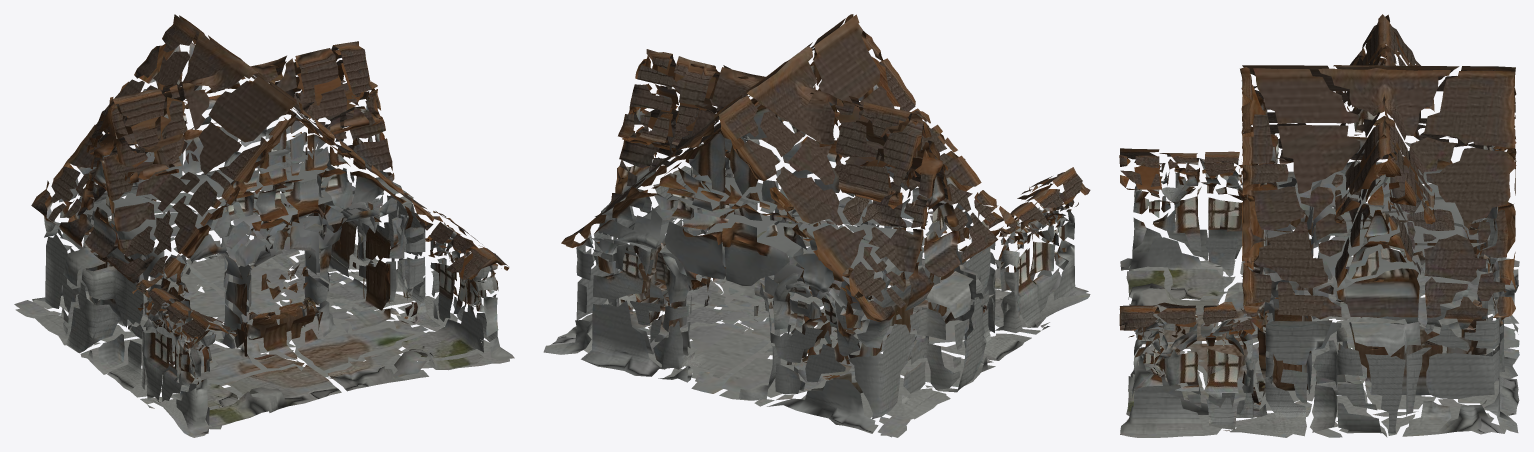
The model's file is haendler.glb.
3 views of the same model, side by side, from view 1: azimuth 30°, elevation 25°; view 2: azimuth 150°, elevation 25°; view 3: azimuth 270°, elevation 25° (orthographic). The views are drawn at different scales.
Bounding box in the file's own units: 1.9 × 1.43 × 1.82.
1 material, 1 textured.
